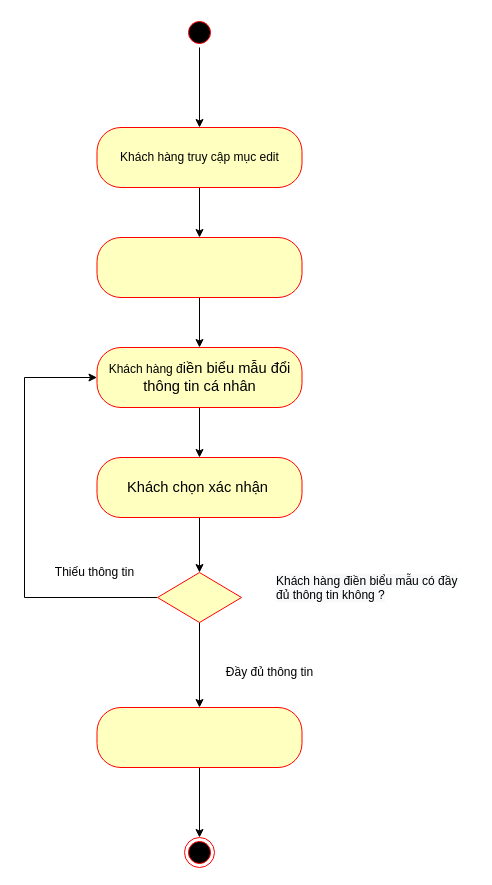
Some shapes in this 492 by 885 pixel diagram are drawn without their labels. Each missing label, with the centre of its shape:
Hệ thống cập nhật thông tin mới vào CSDL: the point at 199,737
Hệ thống h iển thị giao diện quản lý thông tin cá nhân: the point at 199,267
